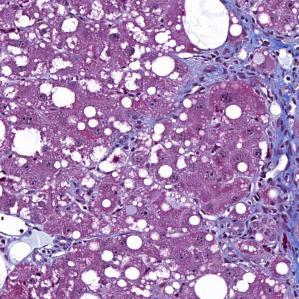fibrosis: (188, 47, 299, 117), (253, 139, 299, 254)
